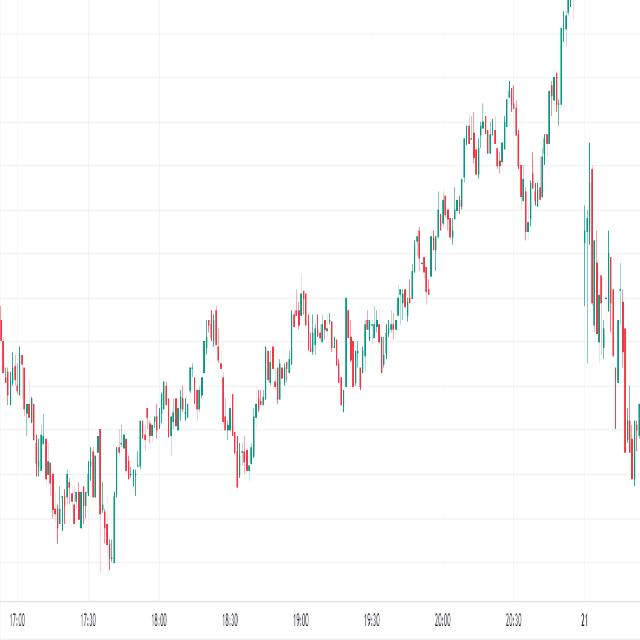Channel-up: (335, 62, 502, 449)
Inverse-Head-Shoulders: (215, 331, 268, 489)
